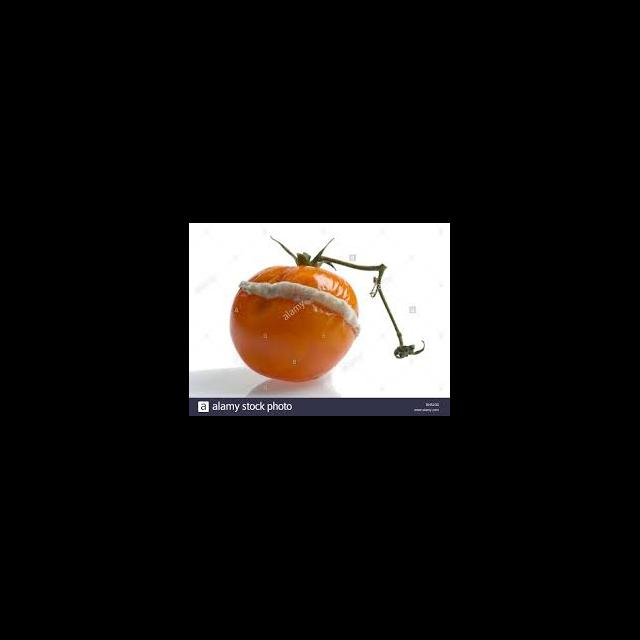food_waste: (226, 251, 432, 387)
